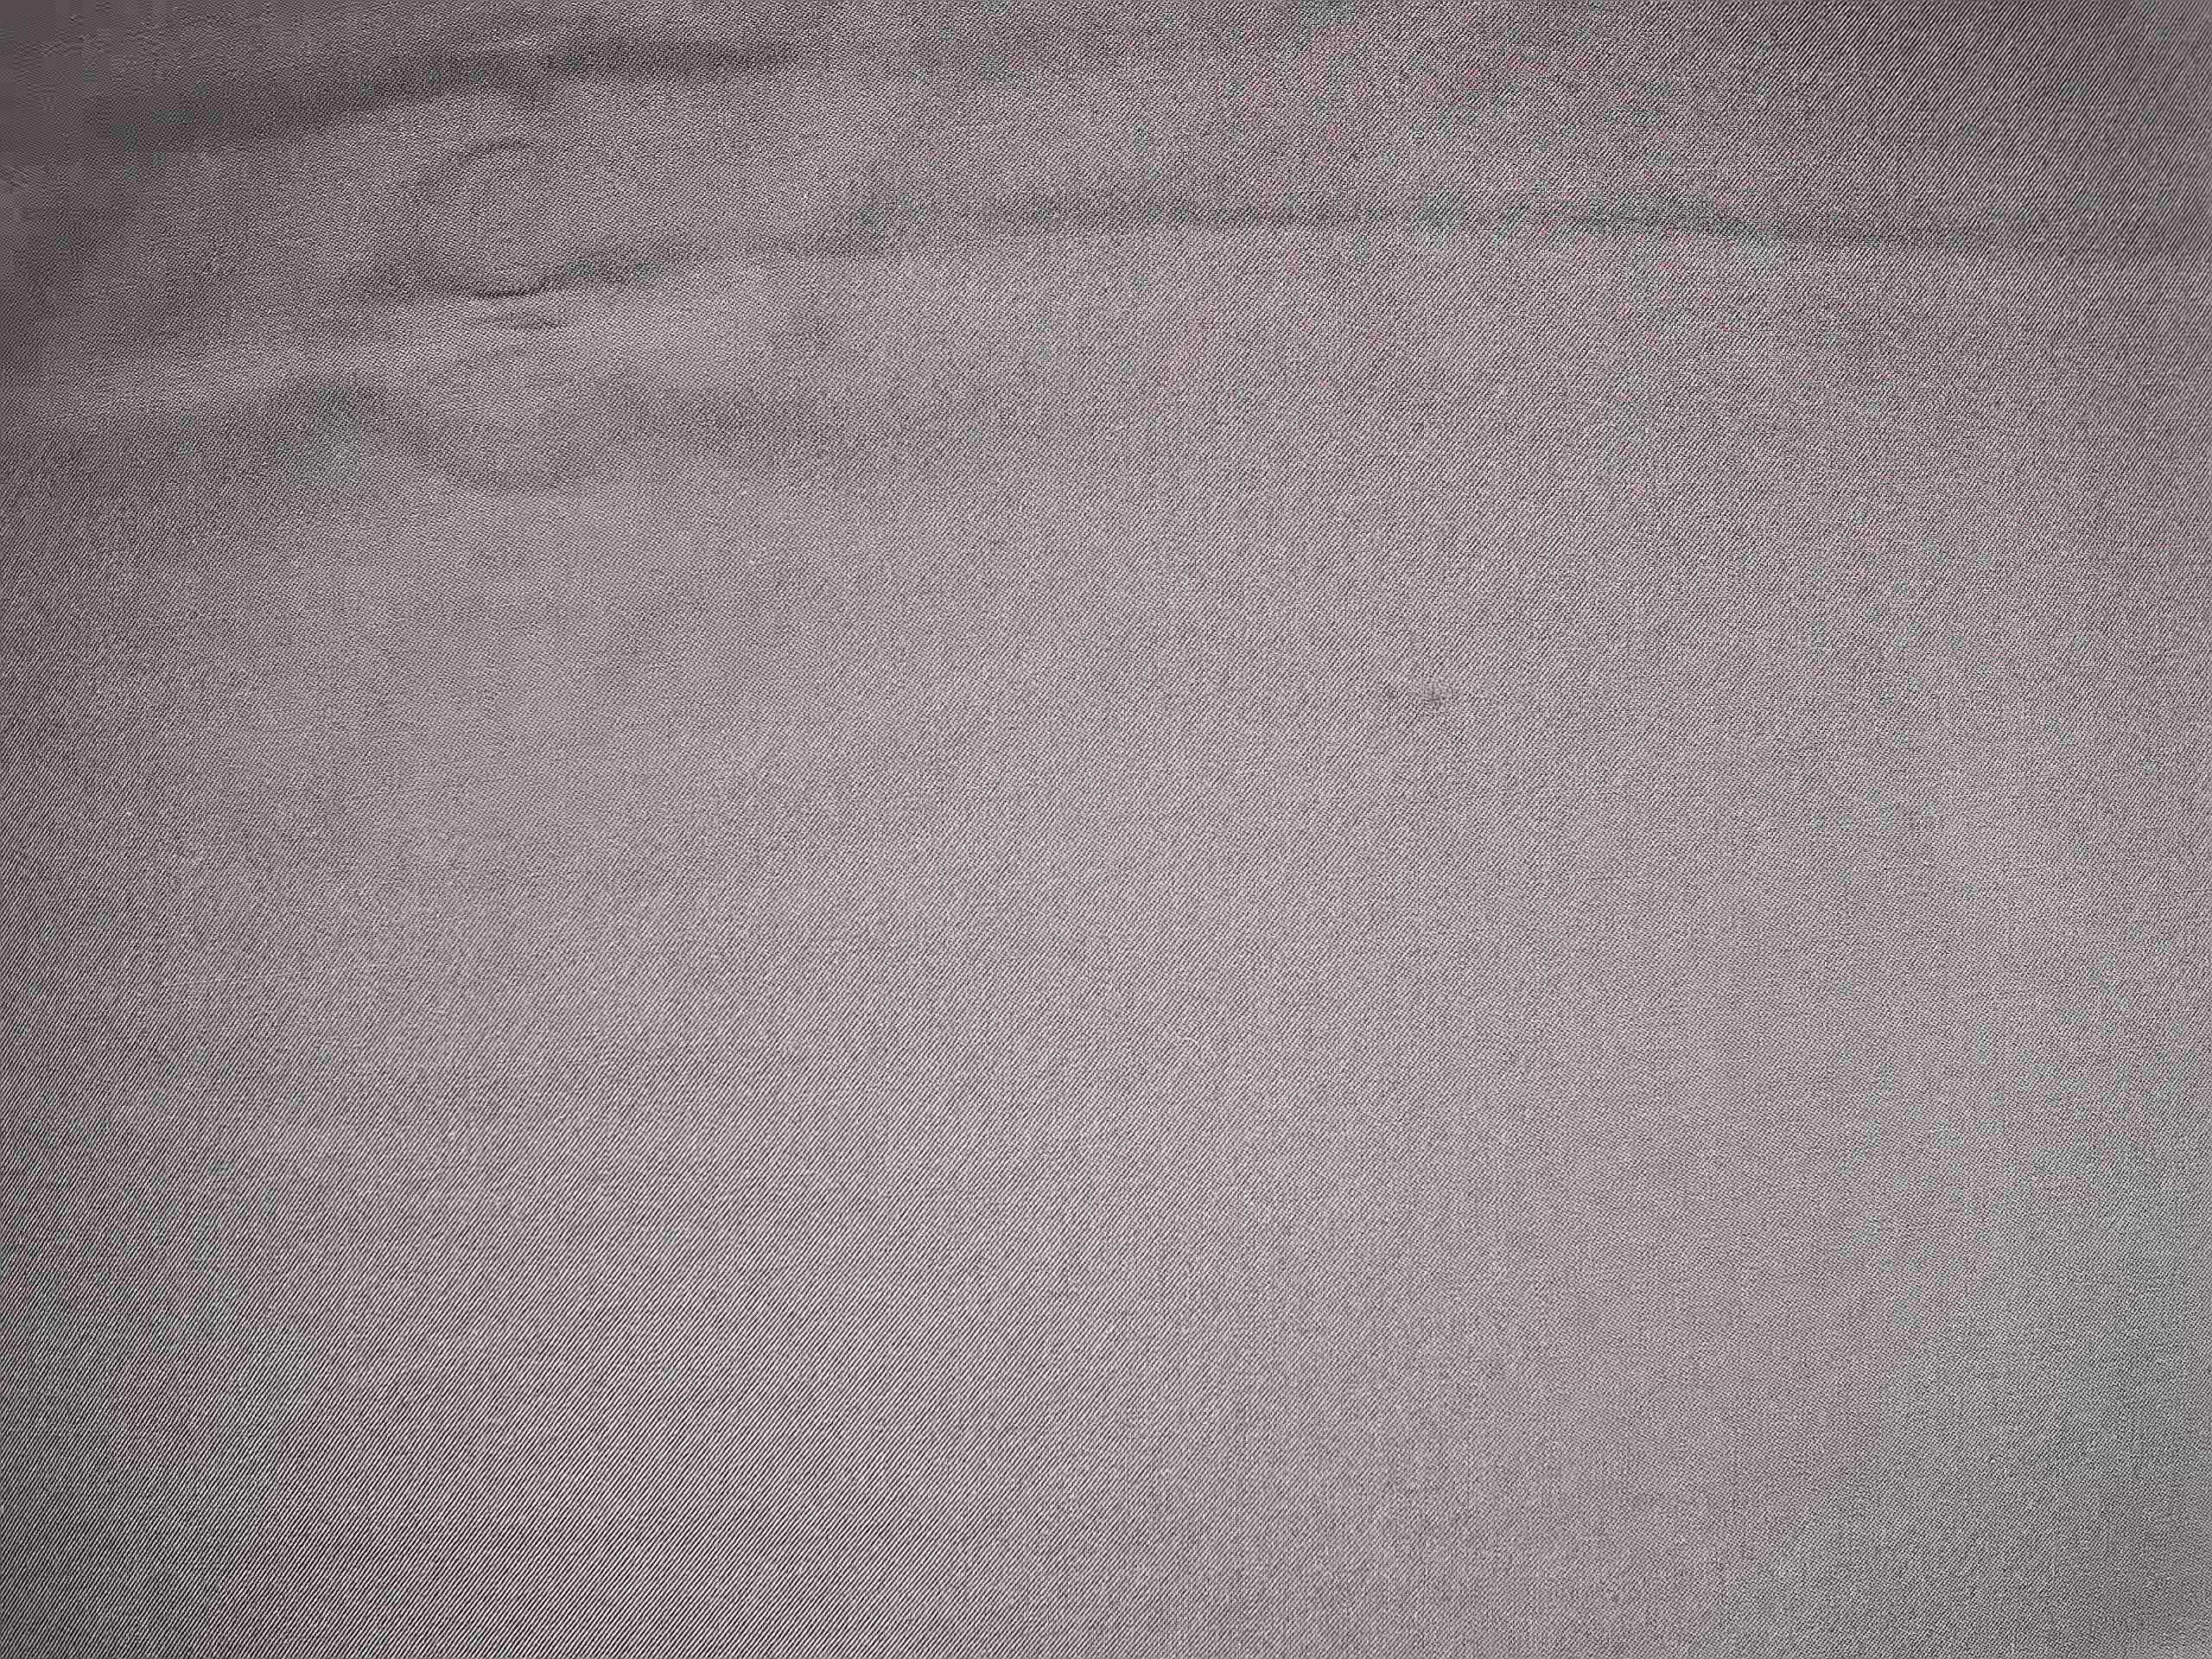knots: (1372, 674, 1468, 725), (1890, 788, 1949, 854)
